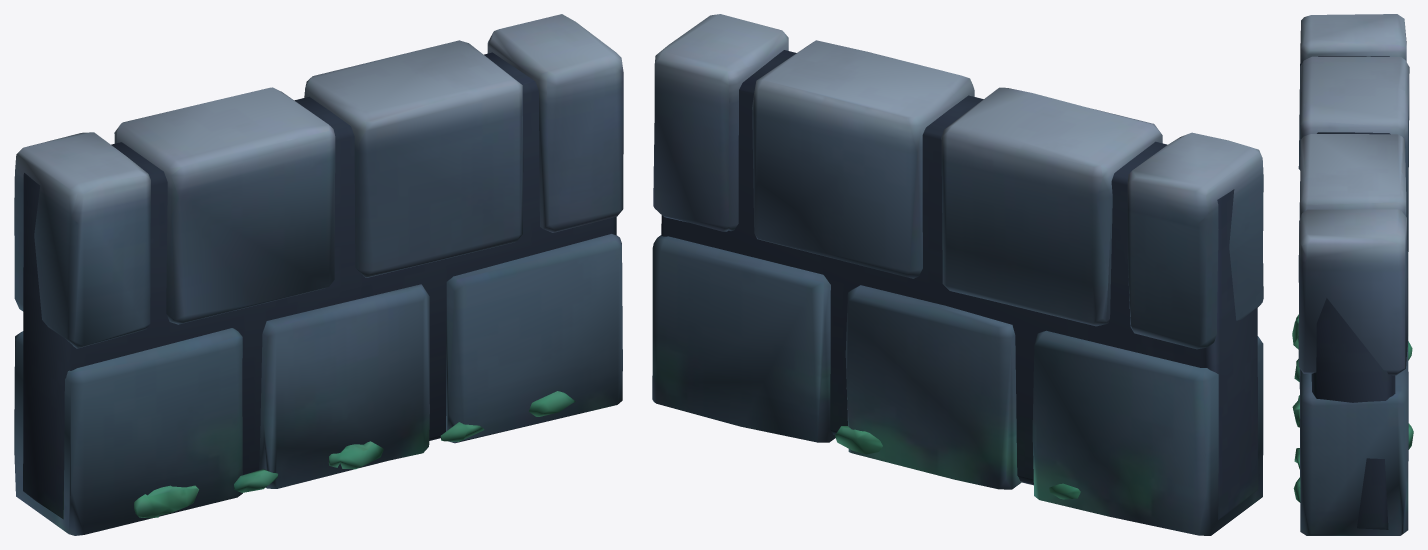
File: wall.glb
The picture shows the model from 3 angles, left to right: view 1: azimuth 30°, elevation 25°; view 2: azimuth 150°, elevation 25°; view 3: azimuth 270°, elevation 25°; orthographic projection. The views are drawn at different scales.
Visible parts, largest first — view 1: blocks; view 2: blocks; view 3: blocks.
Part boxes in pixels (x1,y1,x2,y2): blocks: (14,14,623,535); blocks: (652,14,1263,535); blocks: (1292,14,1413,535).
Bounding box in the file's own units: 2 × 1.2 × 0.4446.
1 material, 1 textured.
